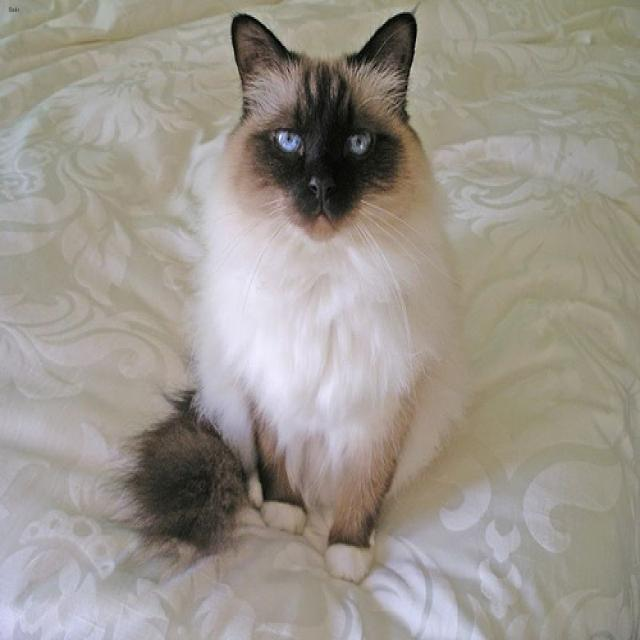Birman: (222, 6, 421, 280)
